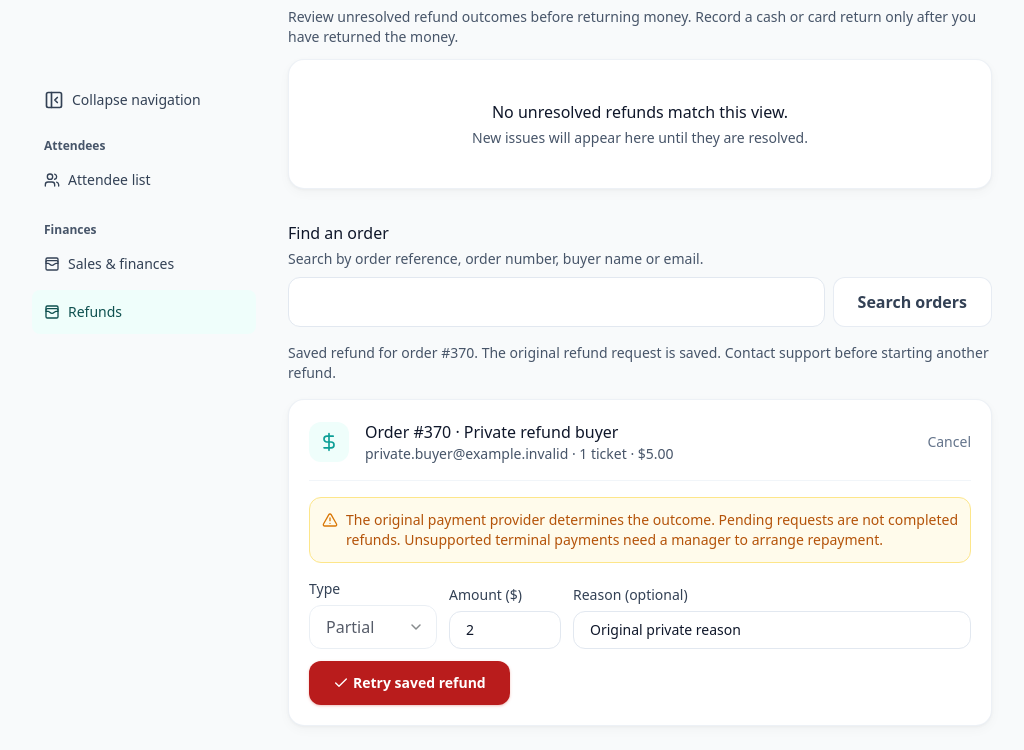
Test: refund denial preserves financial identity while withdrawing private access › withdraws earlier buyer records after current stats 401 without treating it as a refund verdict
(page scrolled)
Check: the text "Order #370 · Private refund buyer" is shown, box [365,421,618,443]
Click the button "Retry saved refund" at (409, 683), box [309,661,510,705]
(page scrolled)
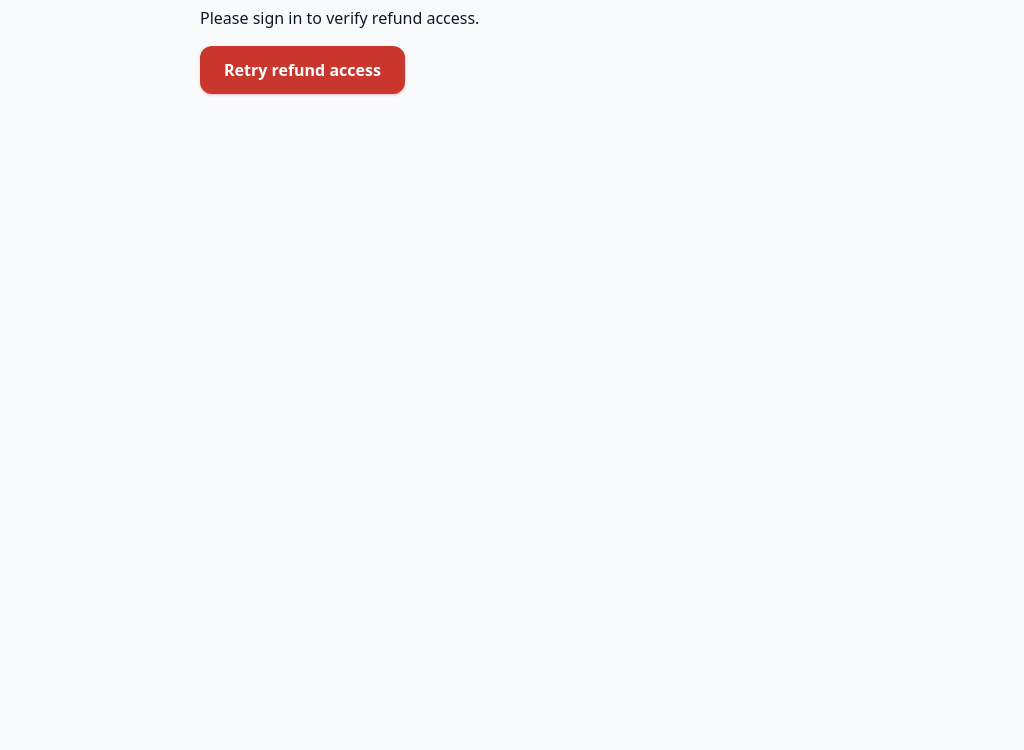
Check: the message "Please sign in to verify refund access. Retry refund access" is shown, box [200,7,479,94]
Check: the text "Private refund buyer" is gone
Check: the button "Retry saved refund" is gone
